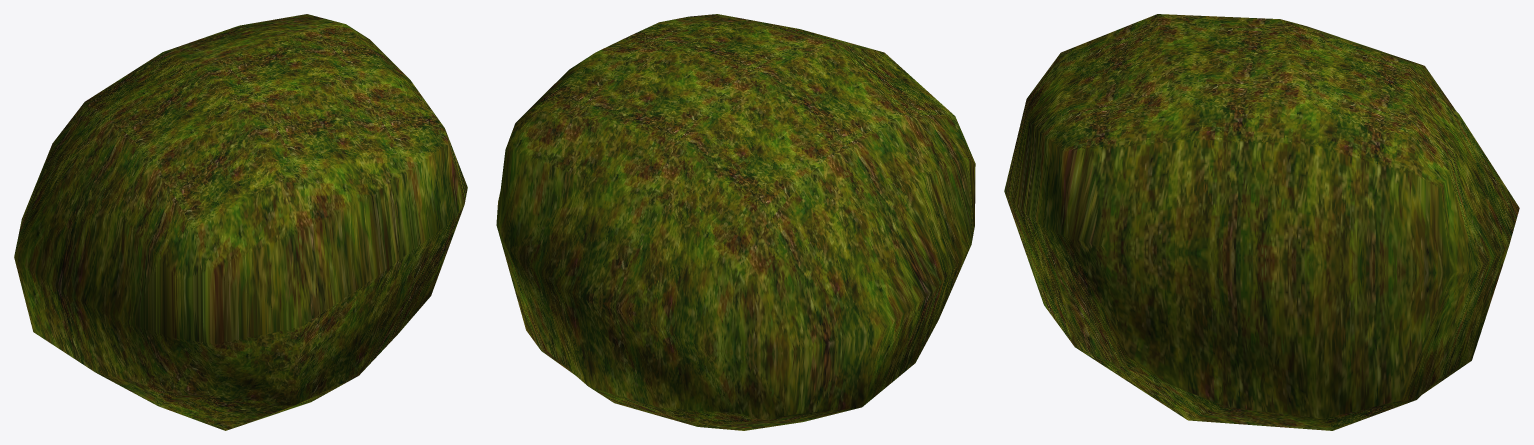
File: LVL_ROAST_MUTTON_ROCK04.fbx
3 renders of one model, left to right at view 1: azimuth 30°, elevation 25°; view 2: azimuth 150°, elevation 25°; view 3: azimuth 270°, elevation 25°, orthographic. The views are drawn at different scales.
Visible parts, largest first — view 1: LVL_ROAST_MUTTON_ROCK04; view 2: LVL_ROAST_MUTTON_ROCK04; view 3: LVL_ROAST_MUTTON_ROCK04.
Part boxes in pixels (x1,y1,x2,y2): LVL_ROAST_MUTTON_ROCK04: (14, 14, 467, 430); LVL_ROAST_MUTTON_ROCK04: (496, 14, 975, 430); LVL_ROAST_MUTTON_ROCK04: (1004, 14, 1519, 430).
Size of the model in its own units: 65802 by 57529 by 71949.
1 material, 1 textured.
